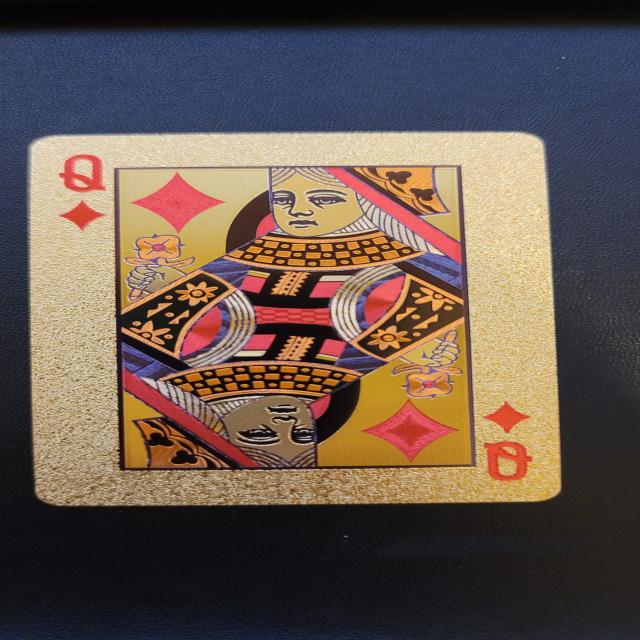Queen of diamonds: (27, 131, 563, 508)
